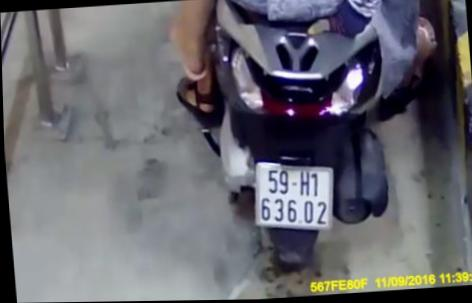LP: (250, 158, 336, 235)
